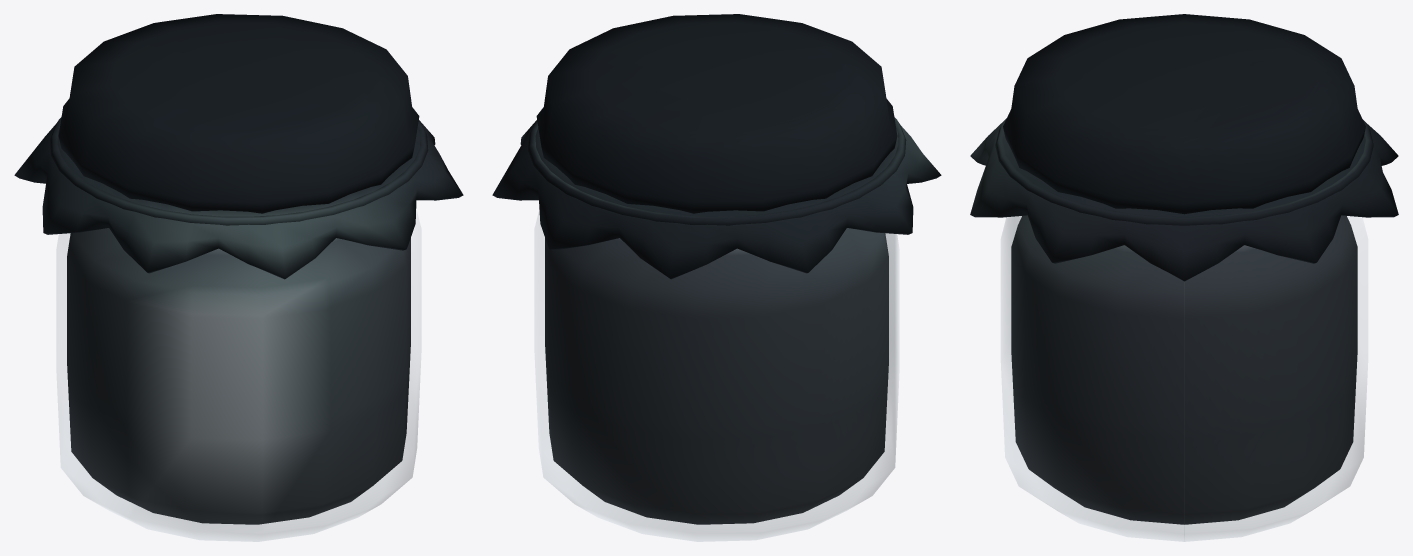
The model's file is Jelly_Jar_Antimatter.glb.
3 renders of one model, left to right at view 1: azimuth 30°, elevation 25°; view 2: azimuth 150°, elevation 25°; view 3: azimuth 270°, elevation 25°, orthographic.
Visible parts, largest first — view 1: JAR_Jelly, JAR_Glass, JAR_Lid, JAR_Paper, JAR_Twine; view 2: JAR_Jelly, JAR_Lid, JAR_Glass, JAR_Paper, JAR_Twine; view 3: JAR_Jelly, JAR_Lid, JAR_Glass, JAR_Paper, JAR_Twine.
Boxes of the visible parts, x1,y1,x2,y2 form: JAR_Jelly: (67, 228, 410, 524); JAR_Glass: (57, 210, 420, 541); JAR_Lid: (58, 14, 419, 213); JAR_Paper: (14, 120, 463, 279); JAR_Twine: (49, 117, 428, 225); JAR_Jelly: (545, 228, 888, 524); JAR_Lid: (536, 14, 897, 213); JAR_Glass: (535, 214, 898, 541); JAR_Paper: (492, 120, 941, 279); JAR_Twine: (527, 117, 906, 225); JAR_Jelly: (1011, 215, 1357, 524); JAR_Lid: (1003, 14, 1365, 214); JAR_Glass: (1001, 216, 1367, 541); JAR_Paper: (970, 118, 1398, 281); JAR_Twine: (995, 120, 1373, 225).
Size of the model in its own units: 1.06 by 1.05 by 1.
